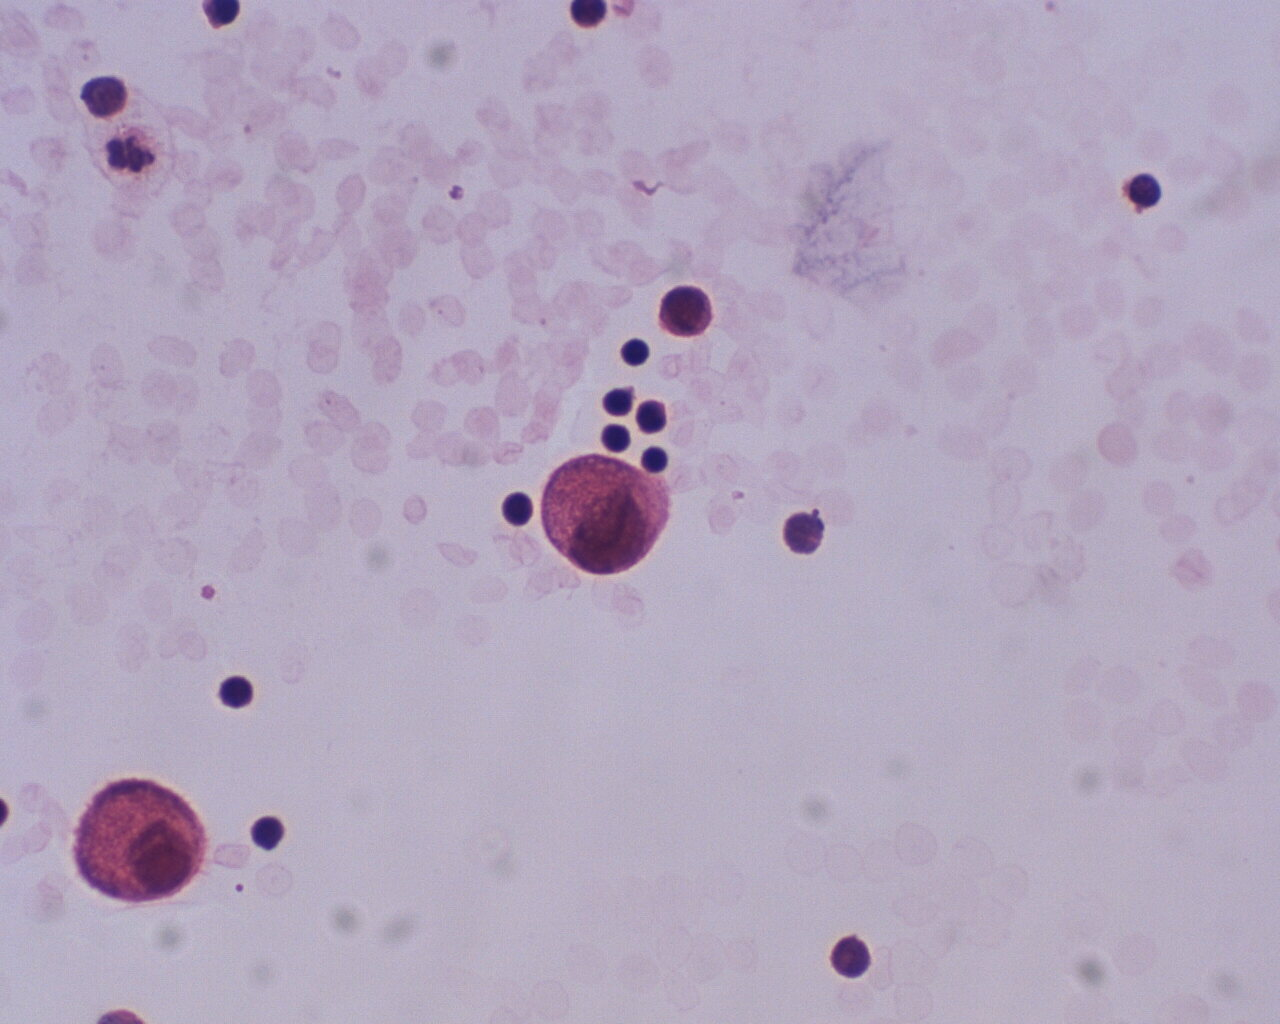ab: (542, 450, 675, 581), (658, 280, 716, 340)
lymph: (207, 667, 256, 716), (828, 929, 872, 982), (245, 807, 295, 853), (497, 486, 537, 535), (596, 377, 638, 416), (613, 333, 653, 370)
